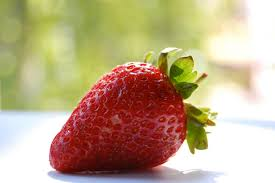ripe: (45, 46, 203, 174)
